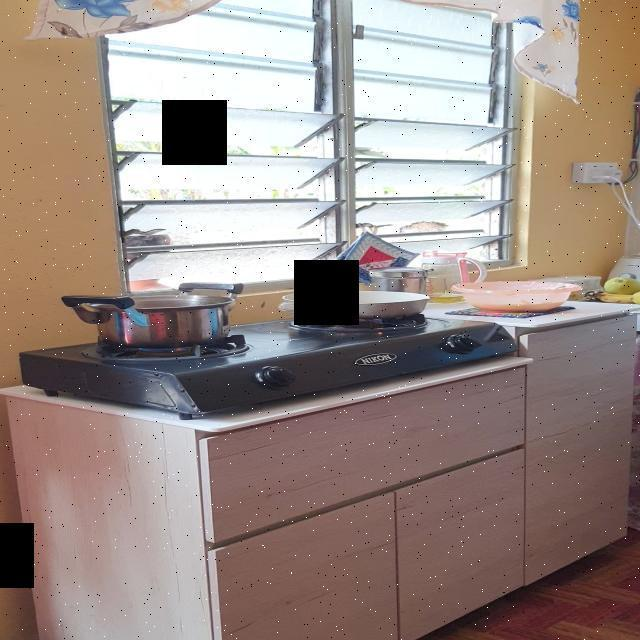Pan: (50, 293, 237, 352), (282, 289, 436, 326), (455, 278, 581, 316)
